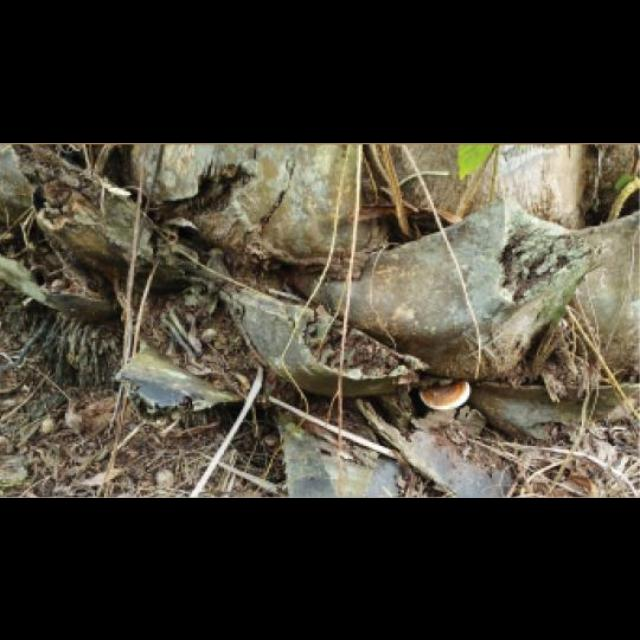ganoderma: (417, 378, 471, 411)
